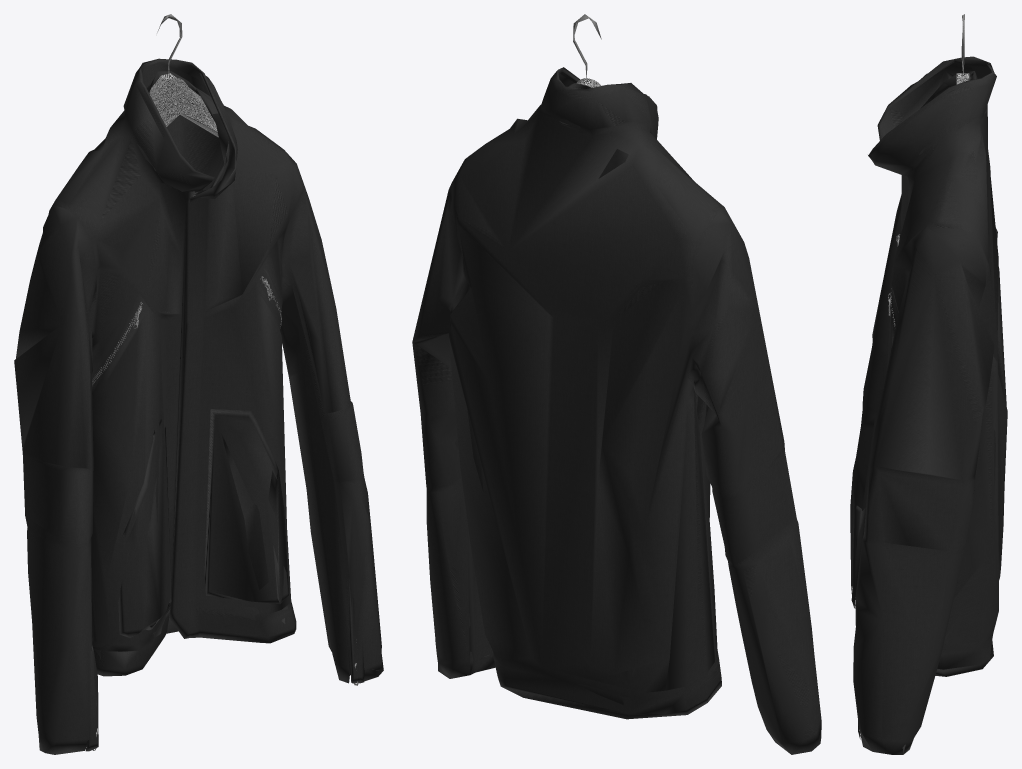
The model's file is krutka.FBX.
3 renders of one model, left to right at view 1: azimuth 30°, elevation 25°; view 2: azimuth 150°, elevation 25°; view 3: azimuth 270°, elevation 25°, orthographic. The views are drawn at different scales.
Parts seen in each view (by area): view 1: Object001; view 2: Object001; view 3: Object001.
Part boxes in pixels (bbox=[...]): Object001: bbox=[14, 14, 383, 754]; Object001: bbox=[412, 14, 821, 754]; Object001: bbox=[850, 14, 1007, 754].
Size of the model in its own units: 47.83 by 89.47 by 19.32.
